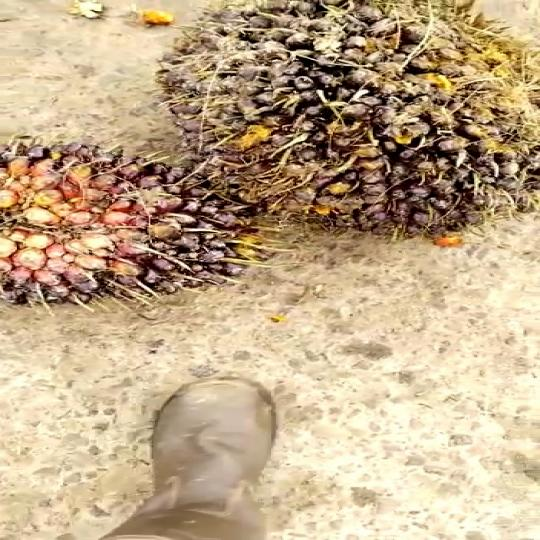kurang masak: (117, 0, 538, 263), (0, 119, 281, 332)
